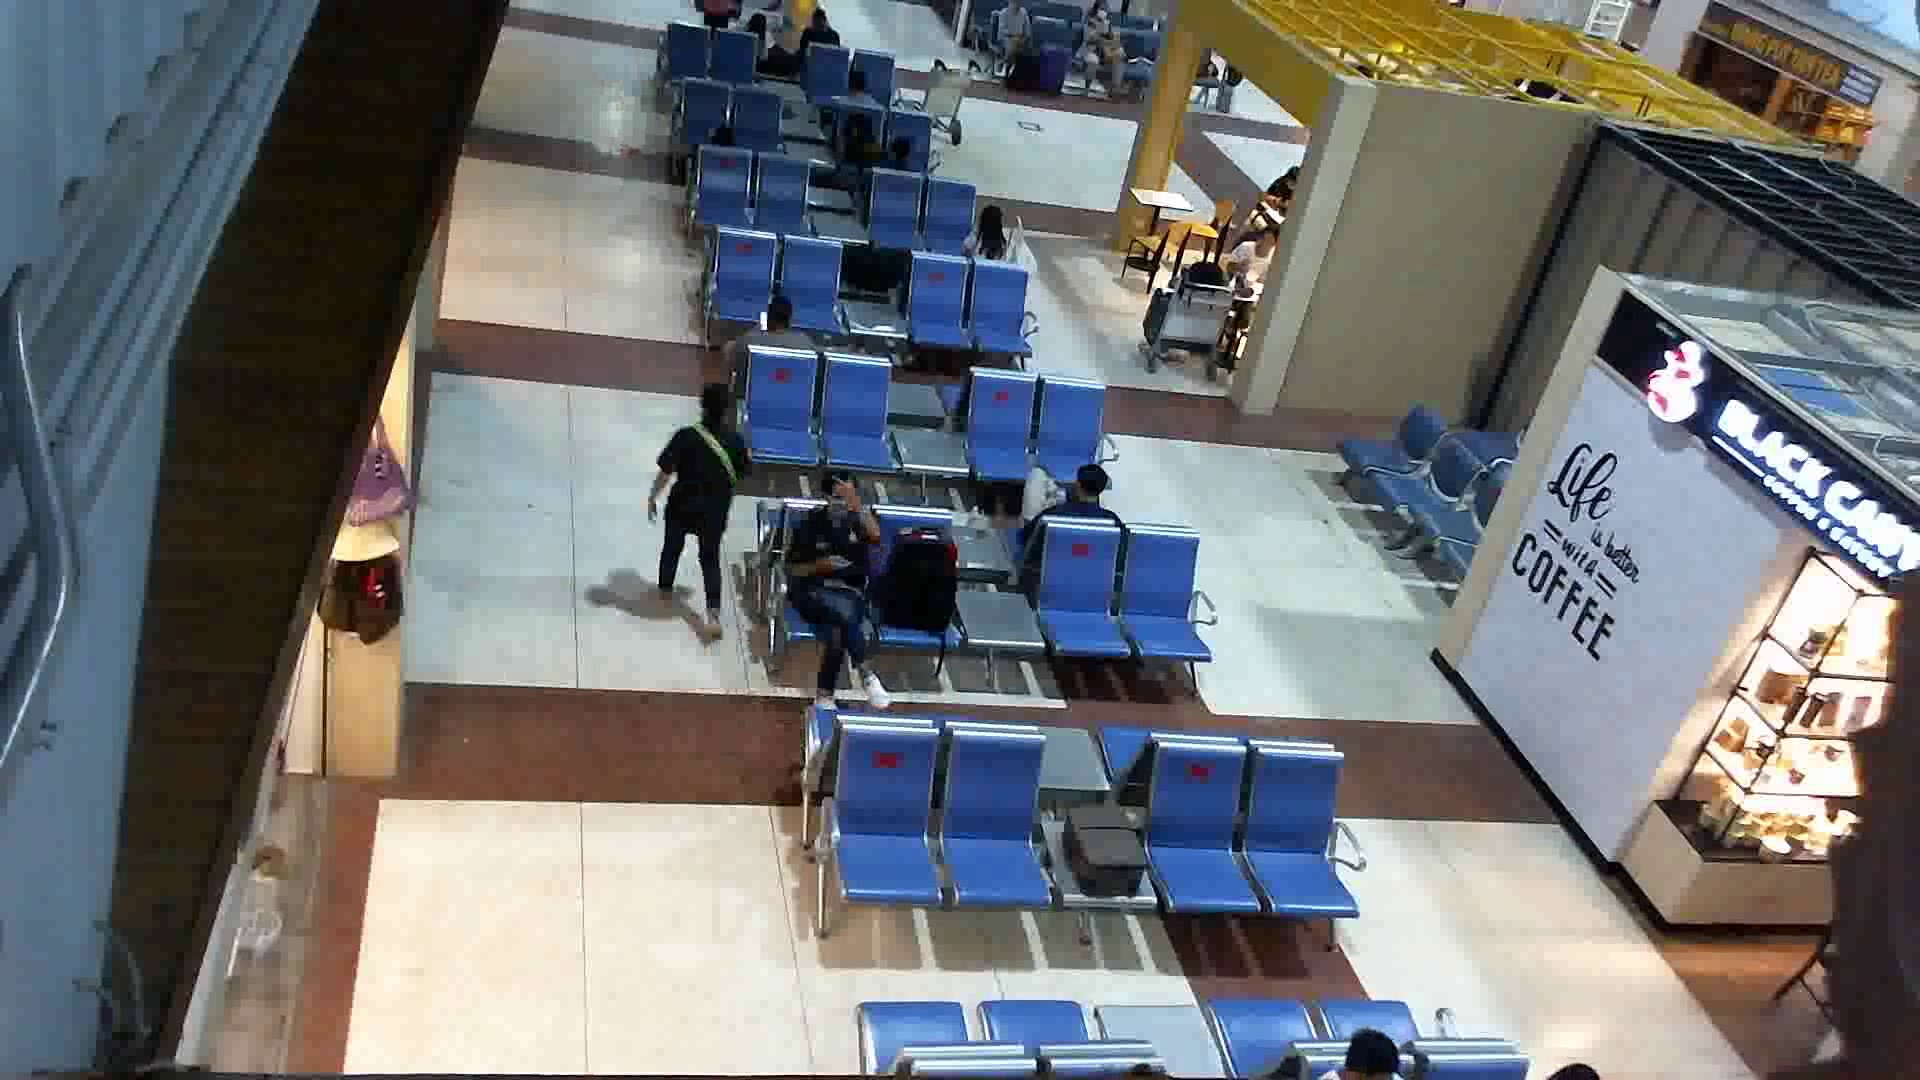luggage: (1048, 794, 1164, 914), (870, 515, 959, 654)
people: (767, 467, 900, 740), (642, 385, 759, 644)
